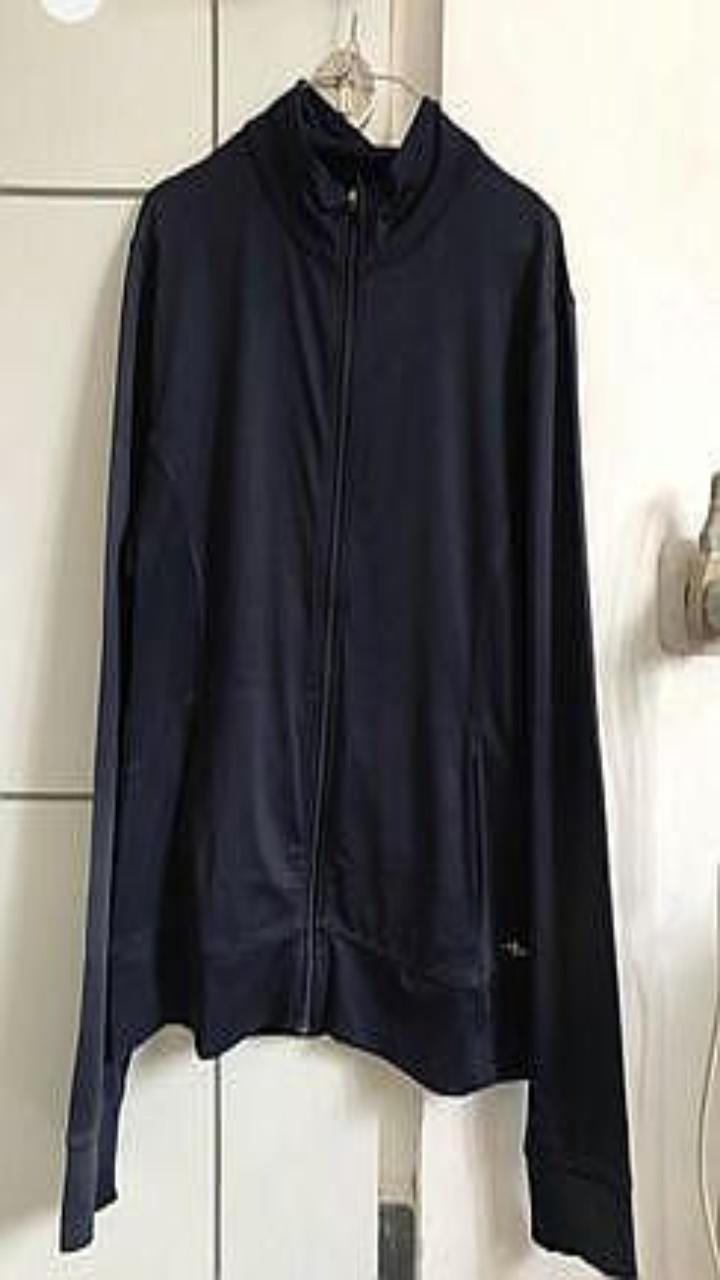Sports_Jacket: (60, 77, 636, 1276)
